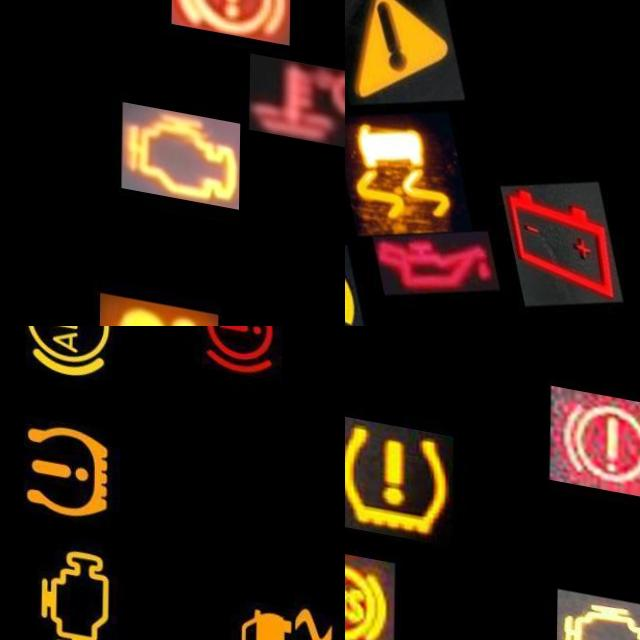Central Warning lamp: (345, 0, 466, 114)
Engine cooling system: (249, 34, 345, 127)
